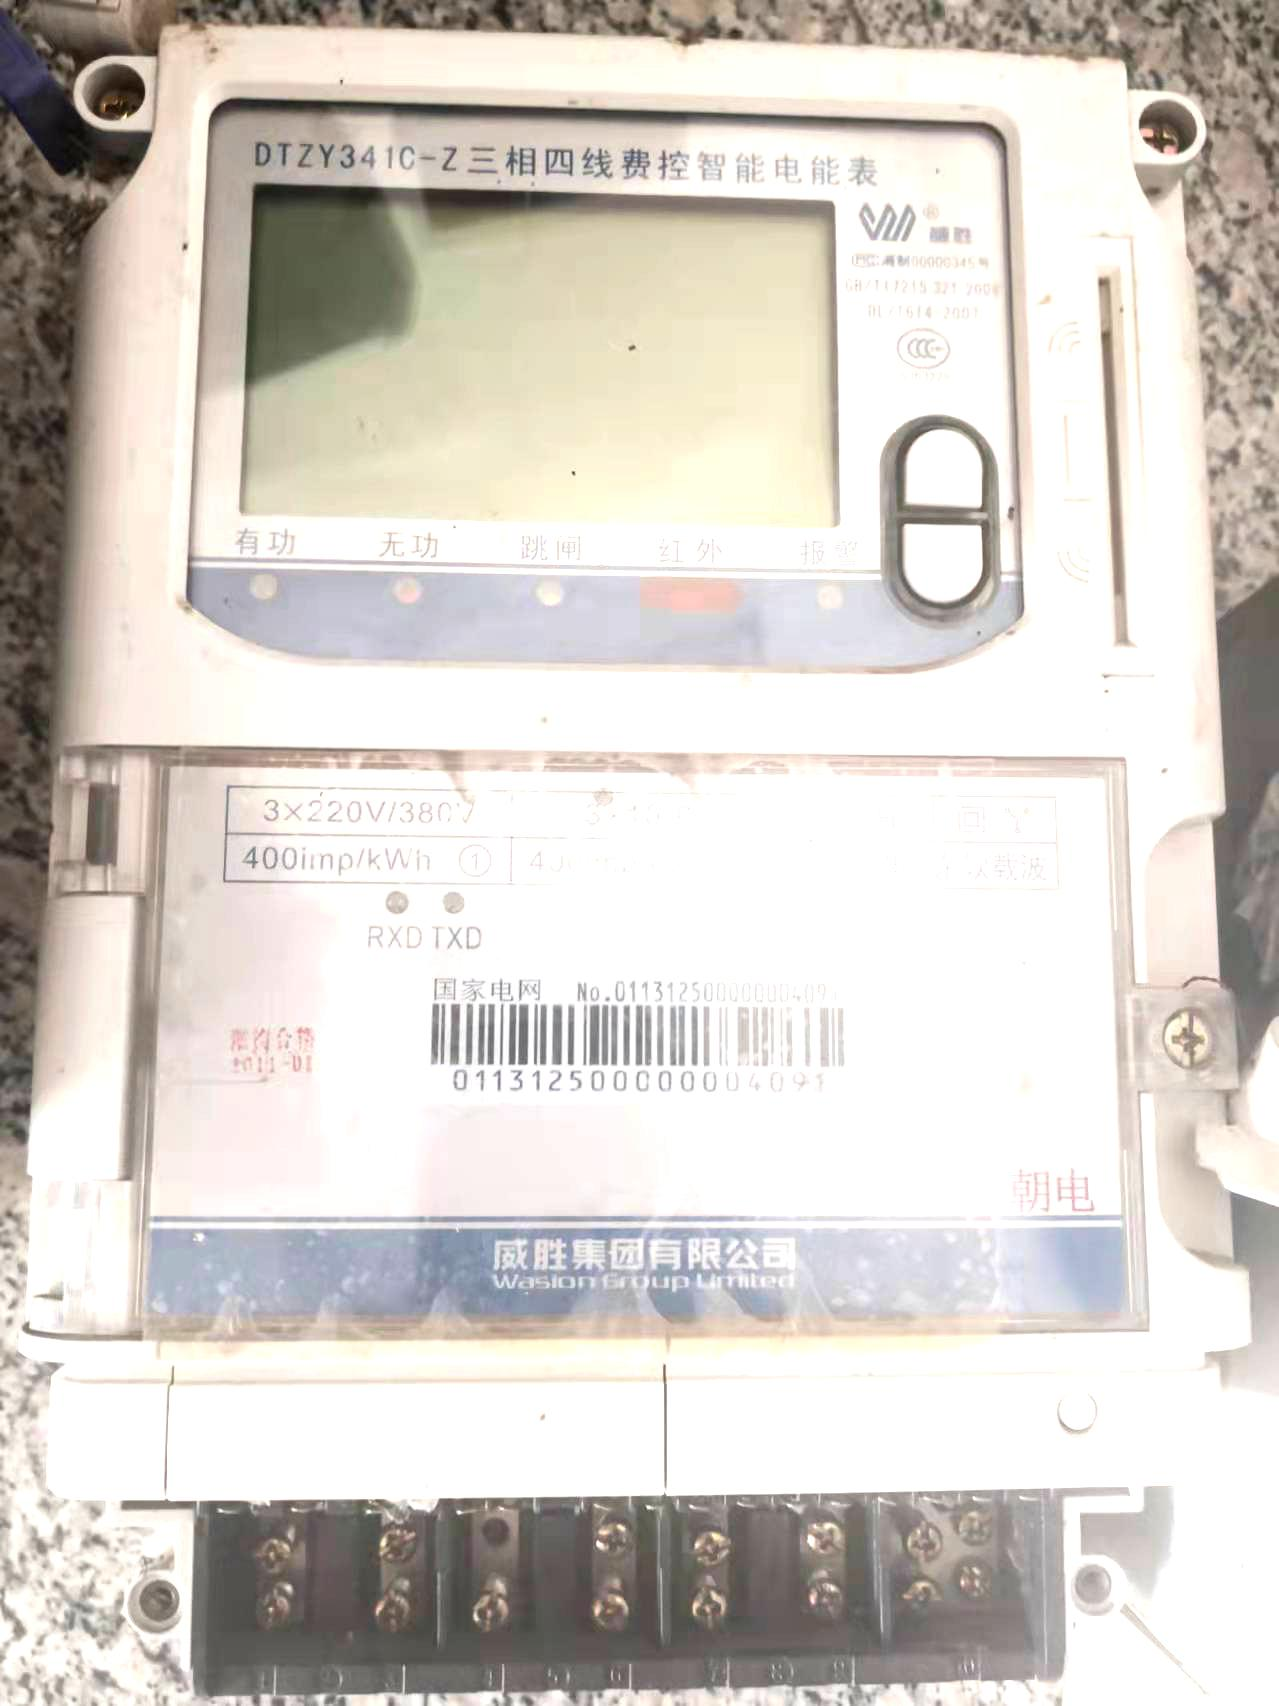digital: (27, 24, 1251, 1372)
